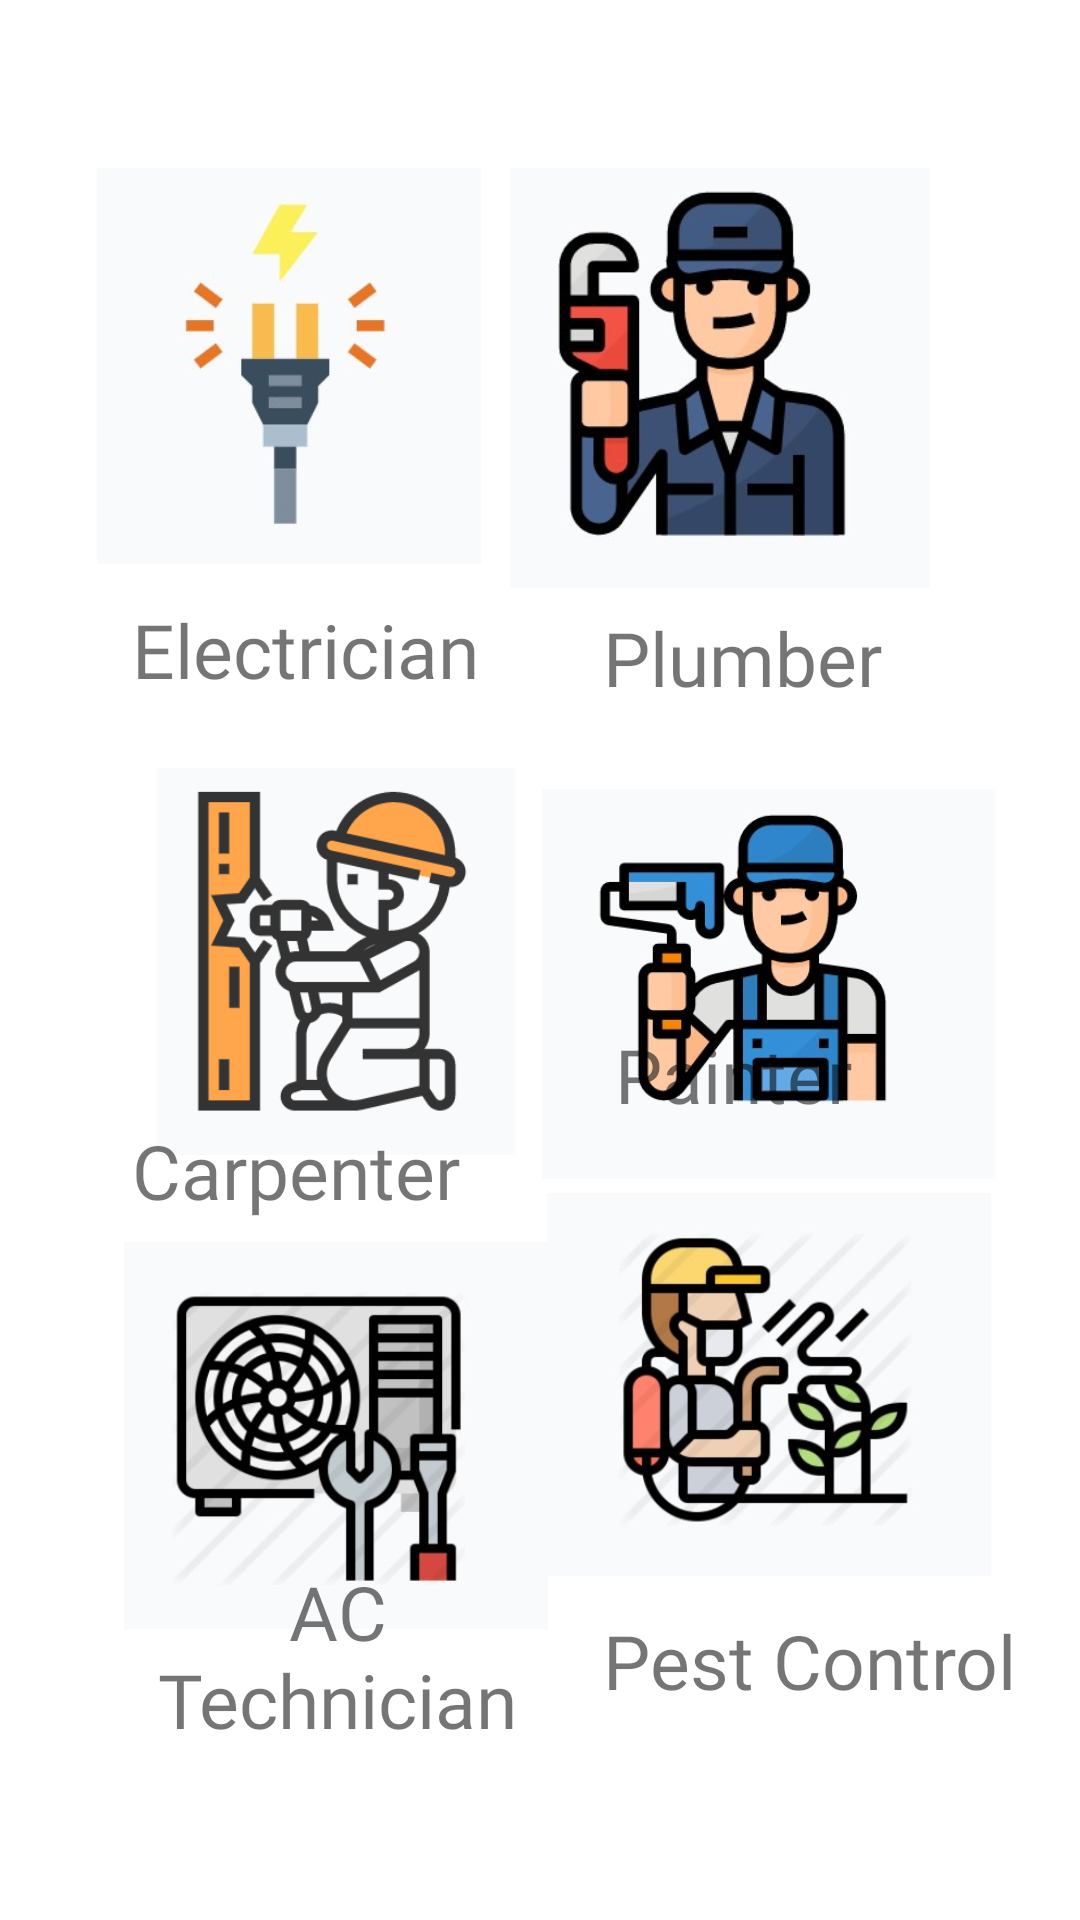

Where to tap for icons on this 1080x1920 app screen, as point (x, y):
plug: point (285, 363)
